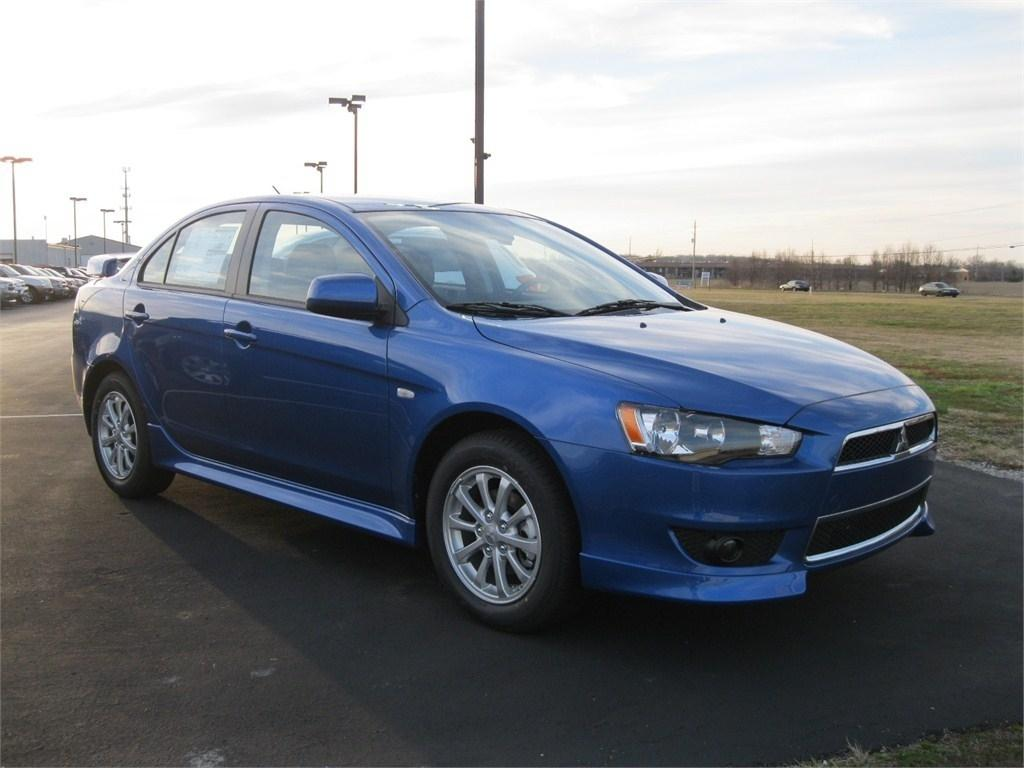Mitsubishi: (884, 415, 930, 464)
